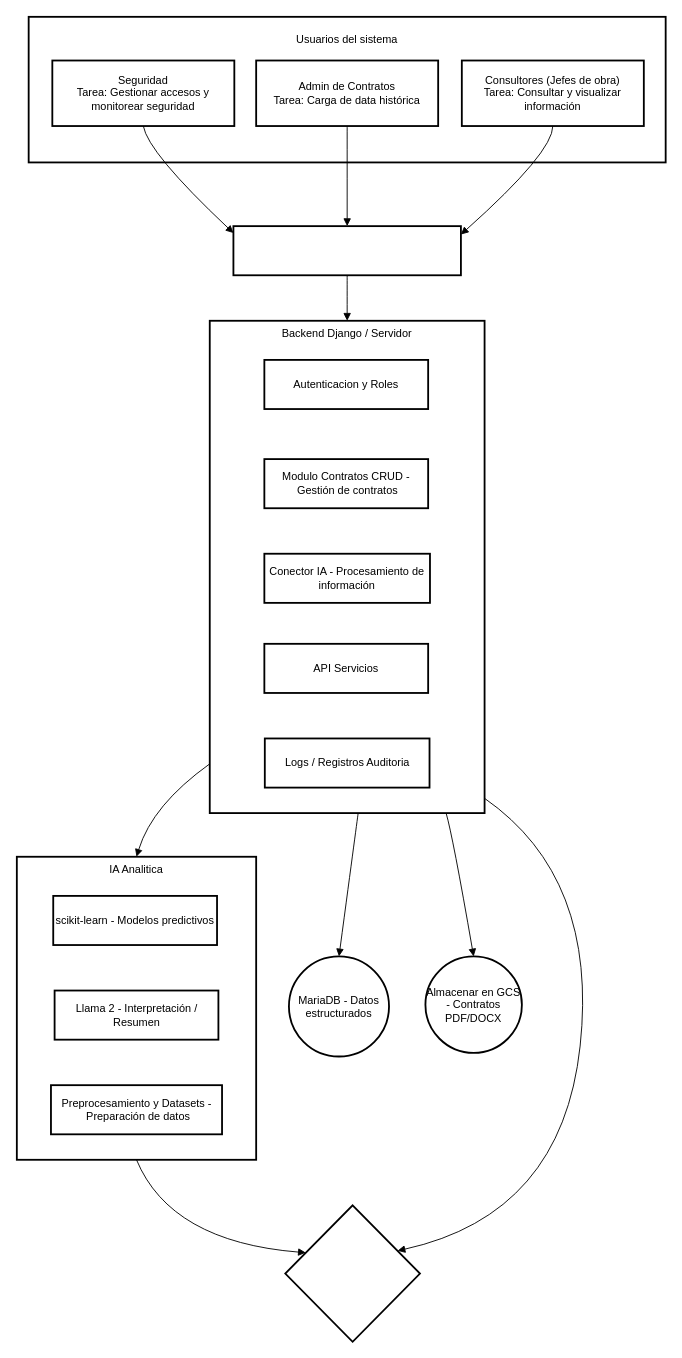
This 682x1358 diagram has some shape labels left out. The centre of each missing label's shape, as x and y in pixels:
"Dashboard / Reportes (KPIs y Predicciones)" belongs at [352,1273].
"Frontend Web (Portal de interacción)" belongs at [346,250].
